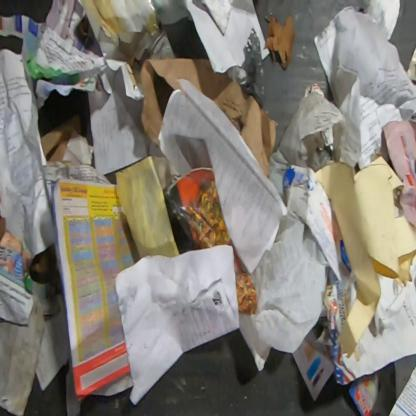cardboard: (281, 163, 358, 386)
